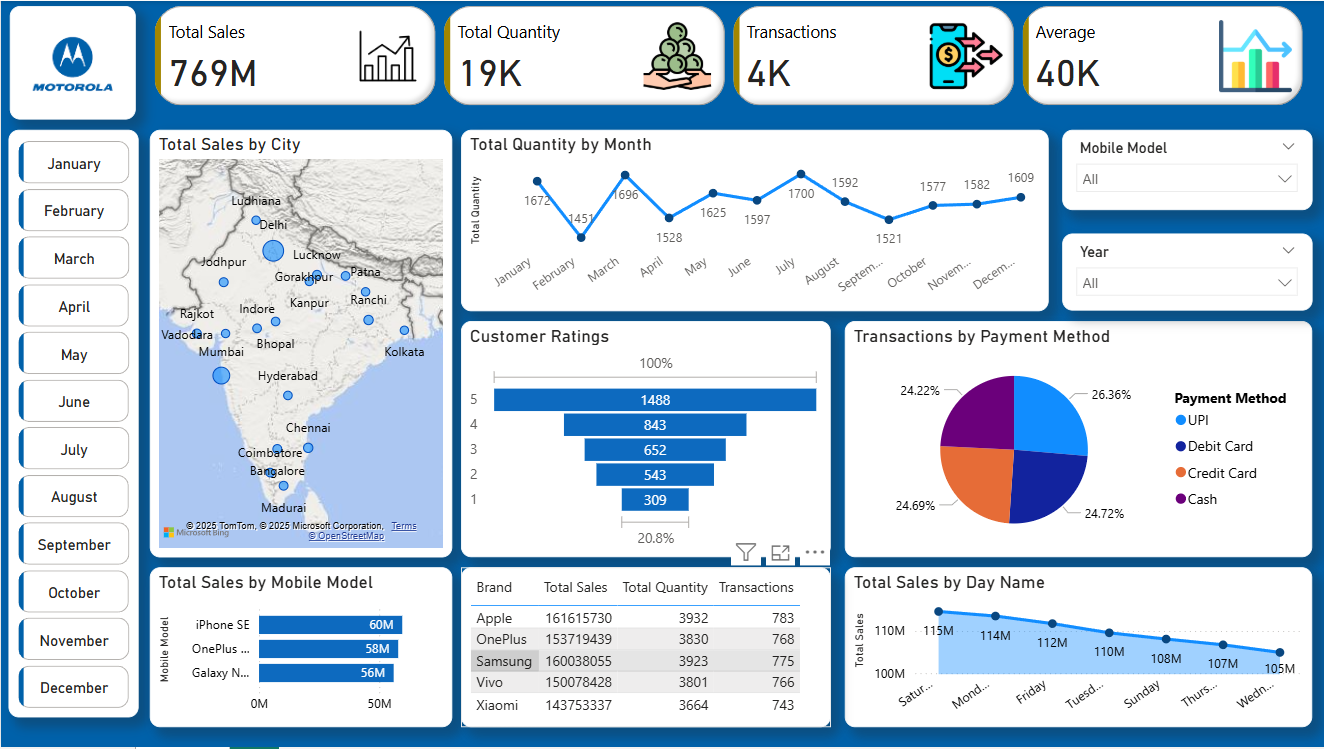

This screenshot's page, from the dashboard's own definition file:
{"tool":"powerbi","page":{"name":"Page 1","canvas":[1280,720],"ordinal":0},"visuals":[{"type":"shape","box":[8.4,4.8,121.9,109.8],"z":0},{"type":"image","box":[13.3,4.8,112.2,112.2],"z":1000},{"type":"shape","box":[7.2,124.3,125.5,567],"z":2000},{"type":"advancedSlicerVisual","fields":{"Values":["Sales_Data.Date.Variation.Date Hierarchy.Month"]},"box":[12.1,130.3,117,558.6],"z":3000},{"type":"cardVisual","fields":{"Data":["Sales_Data.Total Sales","Sales_Data.Total Quantity","Sales_Data.Transactions","Sales_Data.Average"]},"box":[143.6,0,1122,106.2],"z":4000},{"type":"map","fields":{"Category":["Sales_Data.City"],"Size":["Sales_Data.Total Sales"]},"box":[143.6,124.3,292,412.6],"z":5000},{"type":"lineChart","fields":{"Y":["Sales_Data.Total Quantity"],"Category":["Sales_Data.Date.Variation.Date Hierarchy.Month","Sales_Data.Date.Variation.Date Hierarchy.Day"]},"box":[444,124.3,567,174.9],"z":6000},{"type":"funnel","title":"Customer Ratings","fields":{"Category":["Sales_Data.Customer Ratings"],"Y":["CountNonNull(Sales_Data.Customer Ratings)"]},"box":[444,308.8,357.1,228],"z":7000},{"type":"pieChart","fields":{"Y":["Sales_Data.Transactions"],"Category":["Sales_Data.Payment Method"]},"box":[814.3,308.8,451.2,228],"z":8000},{"type":"barChart","fields":{"Category":["Sales_Data.Mobile Model"],"Y":["Sales_Data.Total Sales"]},"box":[143.6,546.5,292,154.4],"z":9000},{"type":"areaChart","fields":{"Y":["Sales_Data.Total Sales"],"Category":["Sales_Data.Day Name"]},"box":[814.3,546.5,451.2,154.4],"z":10000},{"type":"tableEx","fields":{"Values":["Sales_Data.Brand","Sales_Data.Total Sales","Sales_Data.Total Quantity","Sales_Data.Transactions"]},"box":[444,547,357,154],"z":11000},{"type":"slicer","fields":{"Values":["Sales_Data.Mobile Model"]},"box":[1024.3,124.3,241.3,77.2],"z":12000},{"type":"slicer","fields":{"Values":["Sales_Data.Date.Variation.Date Hierarchy.Year"]},"box":[1024.3,224.4,241.3,74.8],"z":13000}]}

Visuals, with their boxes in screenshot pixels (x1, y1, x2, y2), scaled from the page's 1280x720 canvas onto the 1324x749 screenshot:
shape: [x1=9, y1=5, x2=135, y2=119]
image: [x1=14, y1=5, x2=130, y2=122]
shape: [x1=7, y1=129, x2=137, y2=719]
advancedSlicerVisual - Sales_Data.Date.Variation.Date Hierarchy.Month: [x1=13, y1=136, x2=134, y2=717]
cardVisual - Sales_Data.Total Sales x Sales_Data.Total Quantity: [x1=149, y1=0, x2=1309, y2=110]
map - Sales_Data.City x Sales_Data.Total Sales: [x1=149, y1=129, x2=451, y2=559]
lineChart - Sales_Data.Total Quantity x Sales_Data.Date.Variation.Date Hierarchy.Month: [x1=459, y1=129, x2=1046, y2=311]
"Customer Ratings" funnel: [x1=459, y1=321, x2=829, y2=558]
pieChart - Sales_Data.Transactions x Sales_Data.Payment Method: [x1=842, y1=321, x2=1309, y2=558]
barChart - Sales_Data.Mobile Model x Sales_Data.Total Sales: [x1=149, y1=569, x2=451, y2=729]
areaChart - Sales_Data.Total Sales x Sales_Data.Day Name: [x1=842, y1=569, x2=1309, y2=729]
tableEx - Sales_Data.Brand x Sales_Data.Total Sales: [x1=459, y1=569, x2=829, y2=729]
slicer - Sales_Data.Mobile Model: [x1=1060, y1=129, x2=1309, y2=210]
slicer - Sales_Data.Date.Variation.Date Hierarchy.Year: [x1=1060, y1=233, x2=1309, y2=311]
